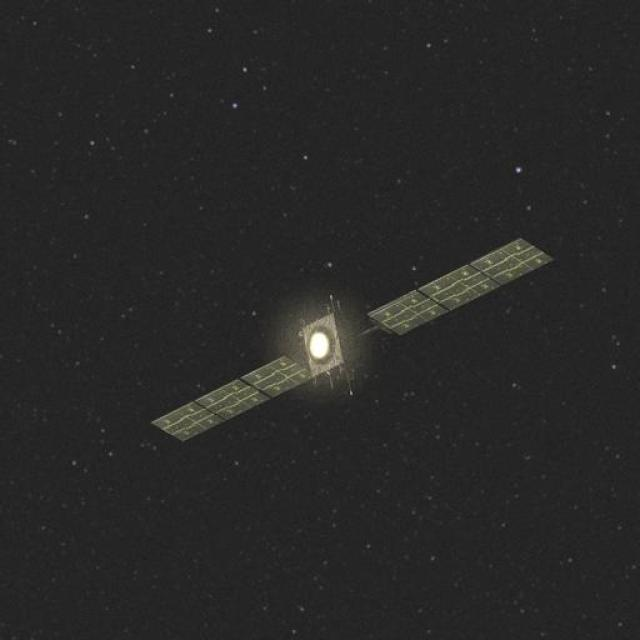smart_1: (131, 229, 558, 467)
